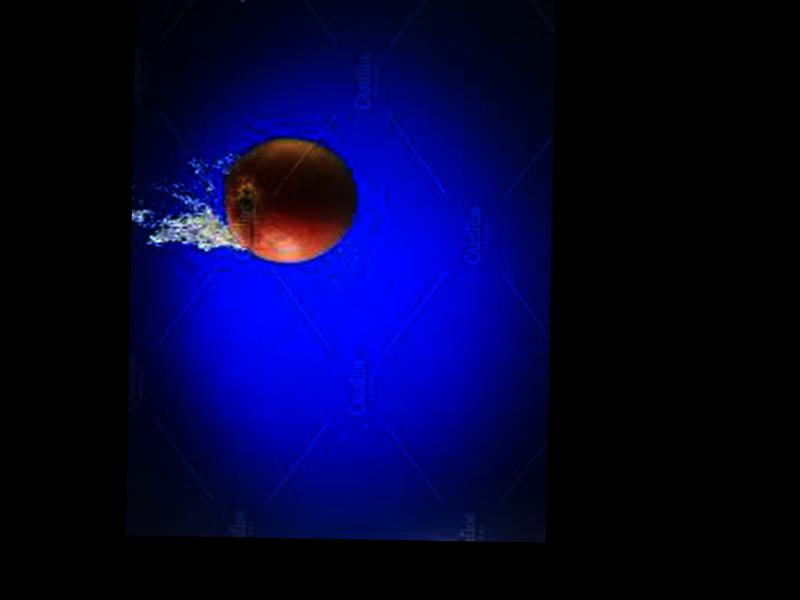Tomato: (223, 135, 353, 263)
